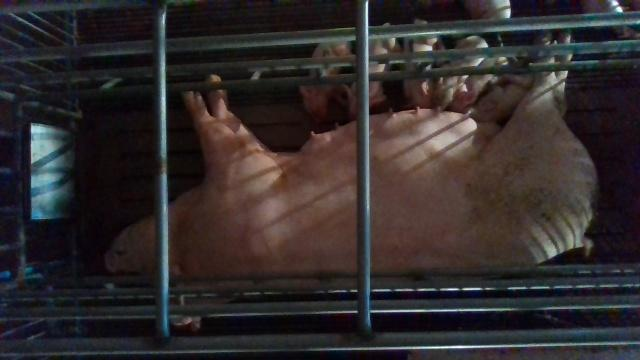piglet: (339, 24, 398, 118), (298, 39, 354, 126), (432, 35, 488, 112), (452, 40, 507, 115), (401, 20, 441, 108), (465, 72, 532, 119), (585, 0, 640, 38), (467, 0, 512, 19)
sow-sleep-lactate: (103, 31, 596, 329)
